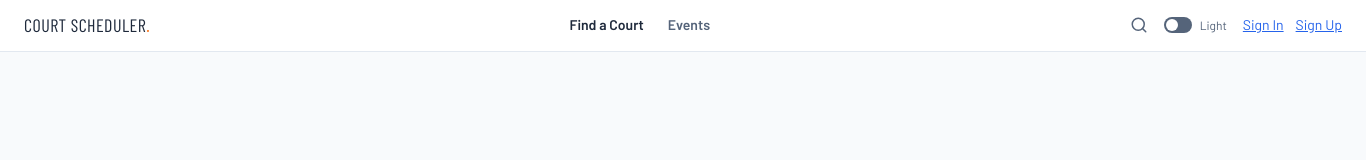
Test case: AppShell › opens the search panel when the search button is clicked
Check: the element "Search" is not shown
Step 1. Click the button named "Open search" → (1139, 25), box [1130, 16, 1148, 34]
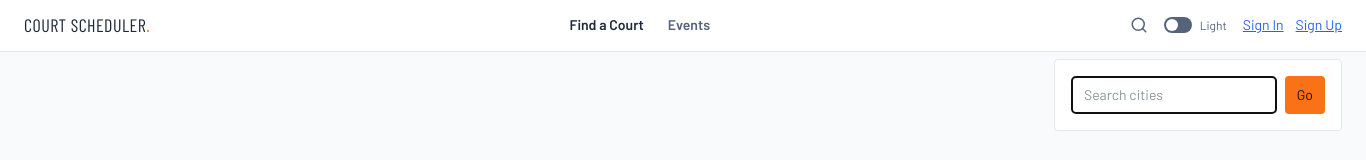
Check: the element named "Search" is shown, box [1054, 59, 1342, 131]
